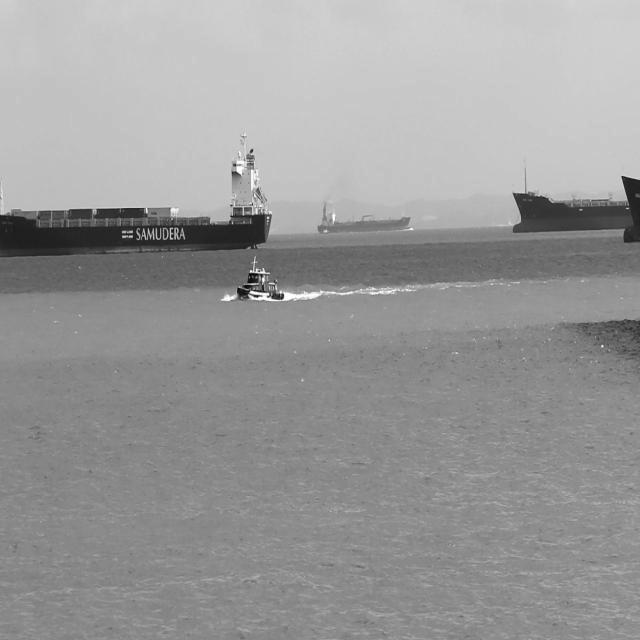ship: (0, 126, 272, 256), (510, 164, 630, 233), (316, 198, 411, 234), (237, 256, 286, 300), (619, 173, 640, 242), (320, 226, 330, 234)
